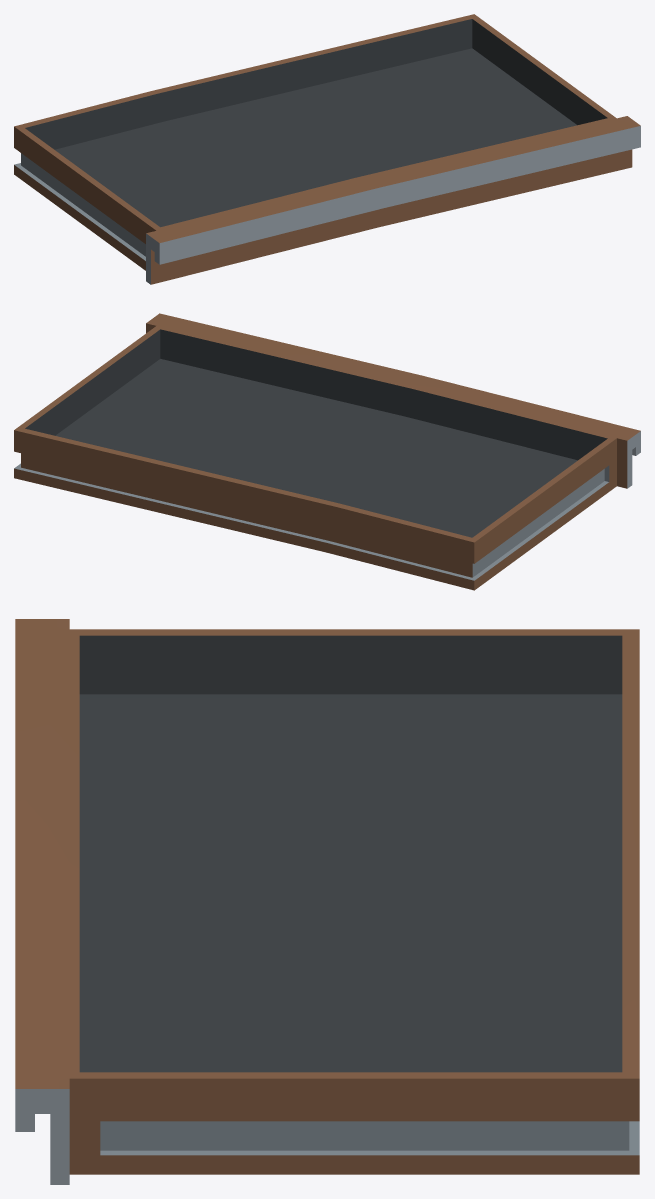
File: SM_Prop_Tool_Box_01_Drawer_04.obj
3 views of the same model, one above another, from view 1: azimuth 30°, elevation 25°; view 2: azimuth 150°, elevation 25°; view 3: azimuth 270°, elevation 25° (orthographic). The views are drawn at different scales.
Visible parts, largest first — view 1: SM_Prop_Tool_Box_01_Drawer_04_0; view 2: SM_Prop_Tool_Box_01_Drawer_04_0; view 3: SM_Prop_Tool_Box_01_Drawer_04_0.
Boxes of the visible parts, left/top/right/bottom form: SM_Prop_Tool_Box_01_Drawer_04_0: left=14, top=14, right=640, bottom=284; SM_Prop_Tool_Box_01_Drawer_04_0: left=14, top=313, right=640, bottom=590; SM_Prop_Tool_Box_01_Drawer_04_0: left=15, top=619, right=639, bottom=1184.
Size of the model in its own units: 0.8603 by 0.0853 by 0.4831.
1 material, 1 textured.
